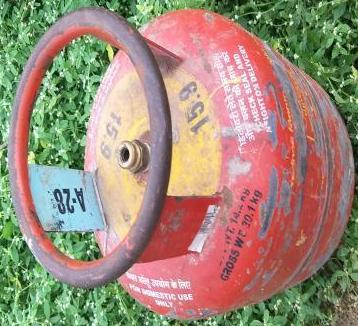cylinder: (1, 0, 358, 326)
